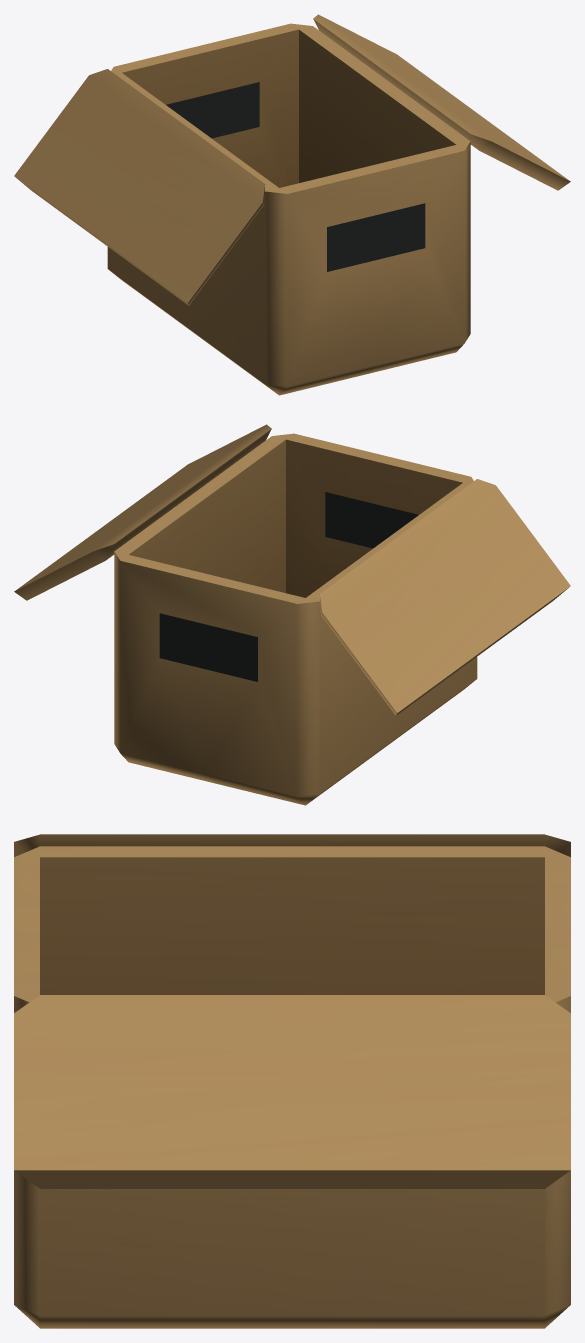
The model's file is box_cardboard_rectangle_open_flaps_handle.fbx.
3 renders of one model, top to bottom at view 1: azimuth 30°, elevation 25°; view 2: azimuth 150°, elevation 25°; view 3: azimuth 270°, elevation 25°, orthographic. The views are drawn at different scales.
Visible parts, largest first — view 1: box_cardboard_rectangle_open_flaps_handle; view 2: box_cardboard_rectangle_open_flaps_handle; view 3: box_cardboard_rectangle_open_flaps_handle.
Part boxes in pixels (x1,y1,x2,y2): box_cardboard_rectangle_open_flaps_handle: [14, 14, 570, 395]; box_cardboard_rectangle_open_flaps_handle: [14, 424, 570, 805]; box_cardboard_rectangle_open_flaps_handle: [14, 834, 570, 1328].
Size of the model in its own units: 100 by 53.69 by 78.69.
